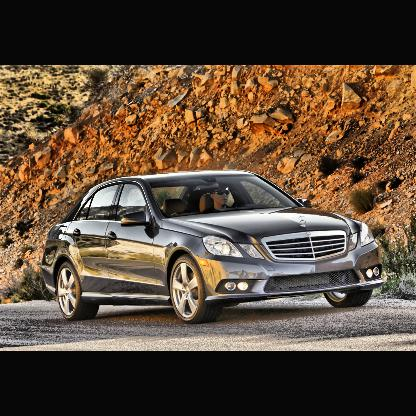Mercedes-Benz E-Class Sedan 2012: (41, 169, 387, 327)
